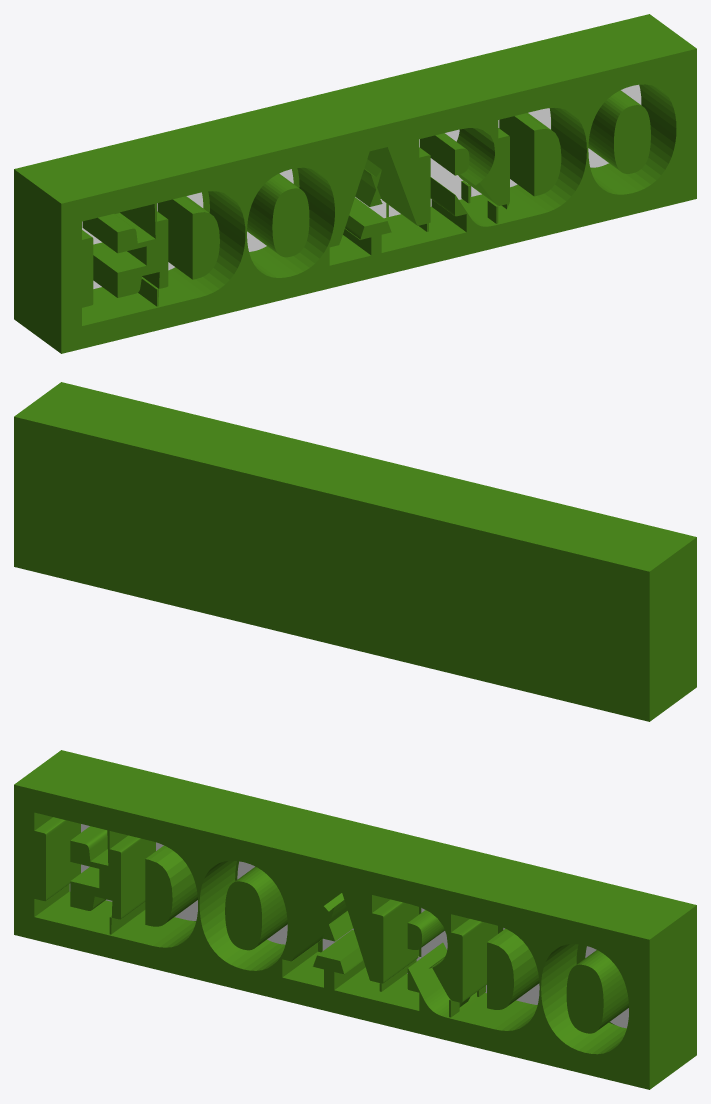
The model's file is edoardo.obj.
The picture shows the model from 3 angles, top to bottom: view 1: azimuth 30°, elevation 25°; view 2: azimuth 150°, elevation 25°; view 3: azimuth 330°, elevation 25°; orthographic projection.
Parts seen in each view (by area): view 1: group_0_4754452, group_0_16448250; view 2: group_0_4754452; view 3: group_0_4754452, group_0_16448250.
Part boxes in pixels (x1=…): group_0_4754452: x1=14, y1=14, x2=696, y2=353; group_0_16448250: x1=82, y1=84, x2=641, y2=288; group_0_4754452: x1=14, y1=382, x2=696, y2=721; group_0_4754452: x1=14, y1=750, x2=696, y2=1089; group_0_16448250: x1=69, y1=824, x2=628, y2=1028.
Bounding box in the file's own units: 155 × 35 × 20.
